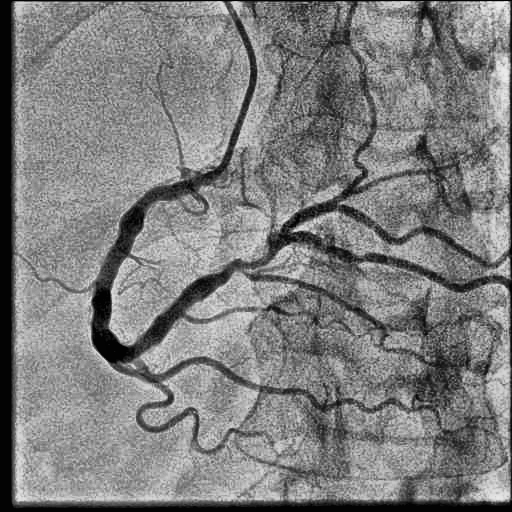pborca: (241, 201, 484, 269)
pda: (238, 268, 441, 369)
rca: (92, 177, 241, 363)
